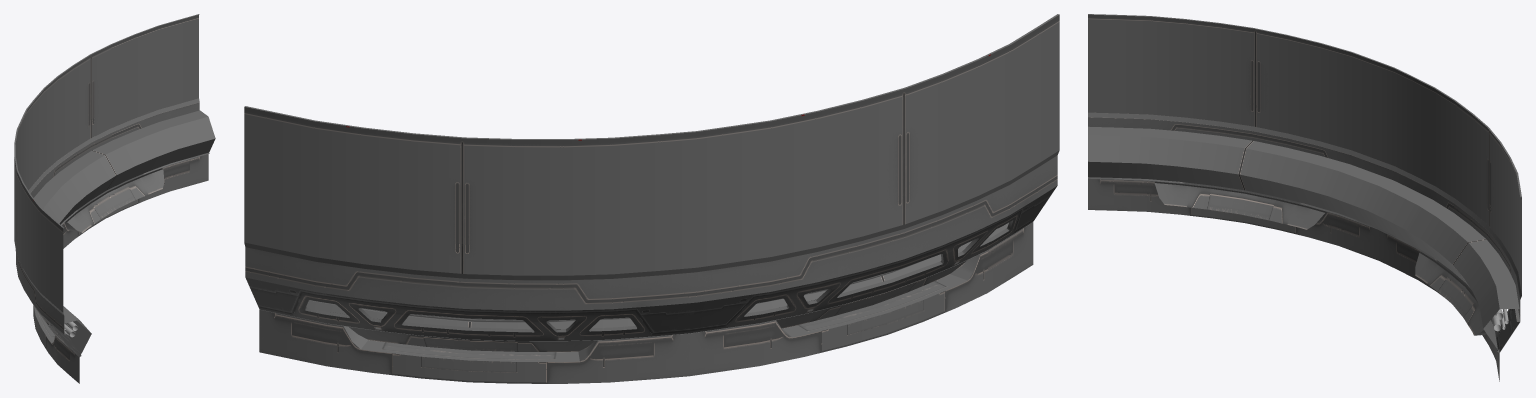
File: S_TopCablesCornerRoundOuter.gltf
3 renders of one model, left to right at view 1: azimuth 30°, elevation 25°; view 2: azimuth 150°, elevation 25°; view 3: azimuth 270°, elevation 25°, orthographic. The views are drawn at different scales.
Parts seen in each view (by area): view 1: Plane_080-col; view 2: Plane_080-col; view 3: Plane_080-col.
Part boxes in pixels (<box>): Plane_080-col: <box>14,14,215,383</box>; Plane_080-col: <box>244,14,1059,383</box>; Plane_080-col: <box>1088,14,1521,381</box>.
Bounding box in the file's own units: 4.22 × 2 × 4.22.
Materials: 4 (4 with a texture image).
